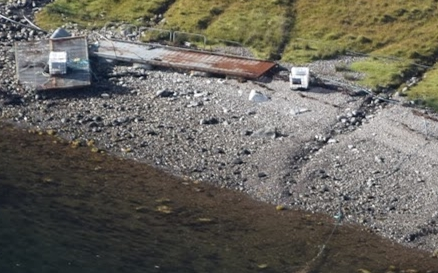cuboid: (87, 32, 280, 82), (10, 32, 96, 94), (171, 25, 210, 53), (42, 46, 72, 81), (136, 23, 173, 48), (285, 63, 314, 94)
tube: (326, 202, 345, 246), (358, 84, 398, 104), (1, 11, 39, 31), (392, 55, 430, 69), (343, 46, 387, 58), (21, 12, 41, 32), (324, 75, 355, 87), (420, 117, 432, 145)
